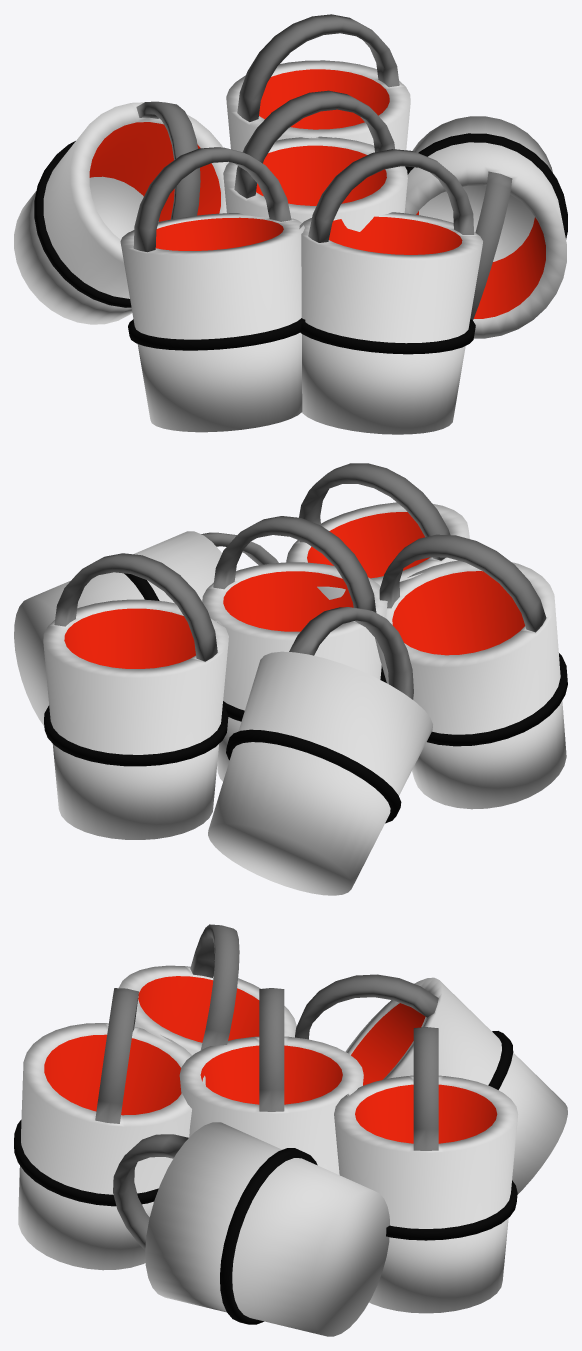
Rendered from Buckets2.fbx.
The picture shows the model from 3 angles, top to bottom: view 1: azimuth 30°, elevation 25°; view 2: azimuth 150°, elevation 25°; view 3: azimuth 270°, elevation 25°; orthographic projection.
Parts seen in each view (by area): view 1: Cylinder.007, Cylinder; view 2: Cylinder.007, Cylinder; view 3: Cylinder.007, Cylinder.
Boxes of the visible parts, x1,y1,x2,y2 form: Cylinder.007: [14, 14, 567, 432]; Cylinder: [299, 149, 482, 434]; Cylinder.007: [14, 516, 567, 895]; Cylinder: [286, 463, 469, 668]; Cylinder.007: [113, 924, 567, 1336]; Cylinder: [14, 988, 205, 1270].
Bounding box in the file's own units: 595 × 324 × 601.
